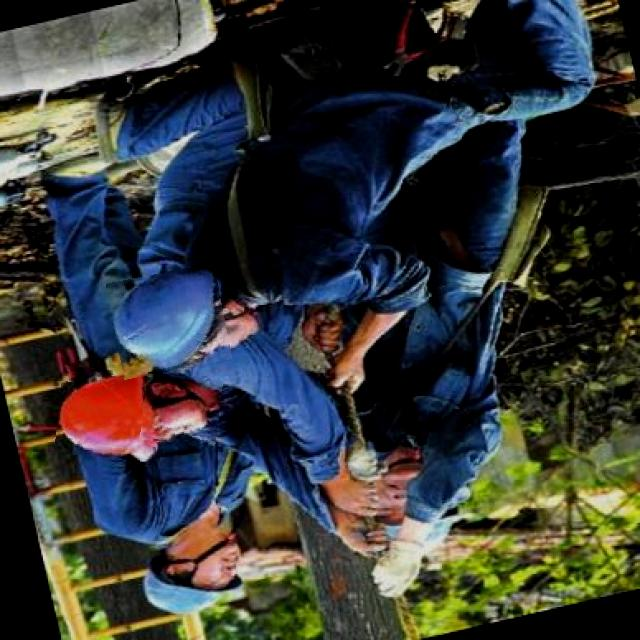helmet: (110, 267, 228, 375), (57, 367, 162, 461), (144, 559, 244, 617), (142, 374, 221, 446)
